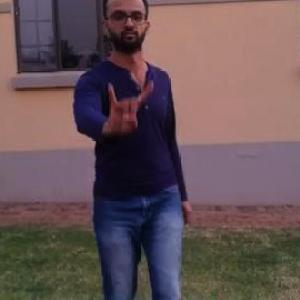takeoff-hand: (99, 74, 154, 144)
